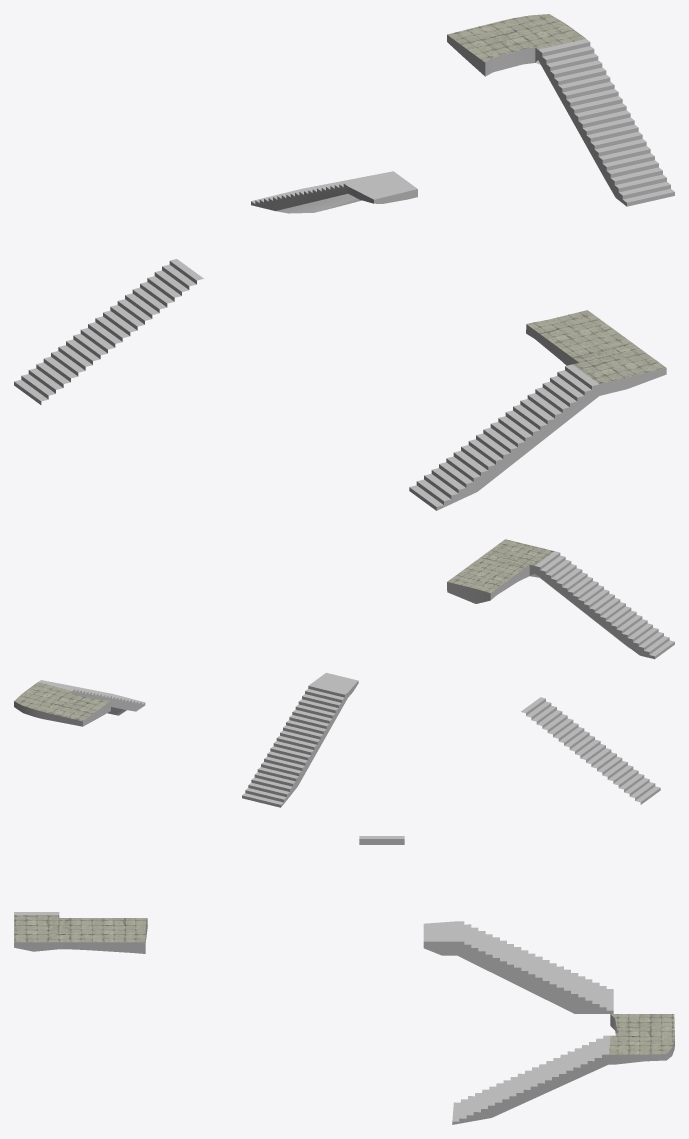
File: SM_Corridor_08_00.fbx
The picture shows the model from 3 angles, top to bottom: view 1: azimuth 30°, elevation 25°; view 2: azimuth 150°, elevation 25°; view 3: azimuth 270°, elevation 25°; orthographic projection. The views are drawn at different scales.
Parts seen in each view (by area): view 1: SM_Corridor_08_00; view 2: SM_Corridor_08_00; view 3: SM_Corridor_08_00.
Part boxes in pixels (x1,y1,x2,y2): SM_Corridor_08_00: (14,14,674,510); SM_Corridor_08_00: (14,539,674,807); SM_Corridor_08_00: (14,836,674,1124).
Size of the model in its own units: 4607 by 553 by 4556.
